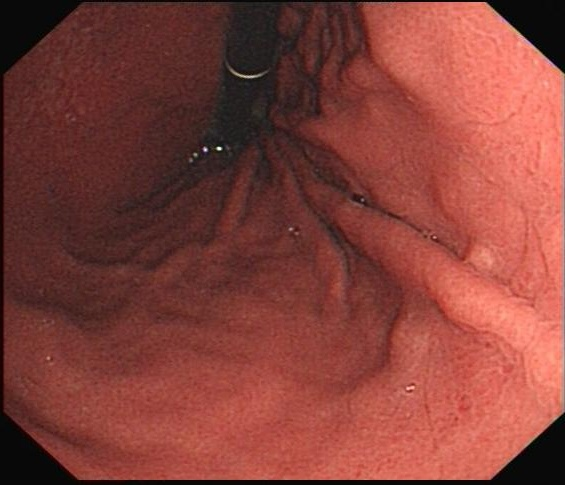Polyp: (446, 226, 506, 288)
